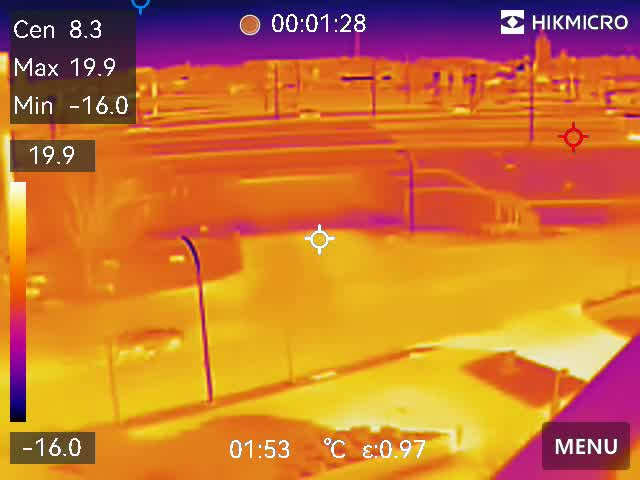vehicle: (103, 326, 187, 361), (121, 121, 157, 137), (293, 106, 324, 120), (447, 102, 474, 116)
